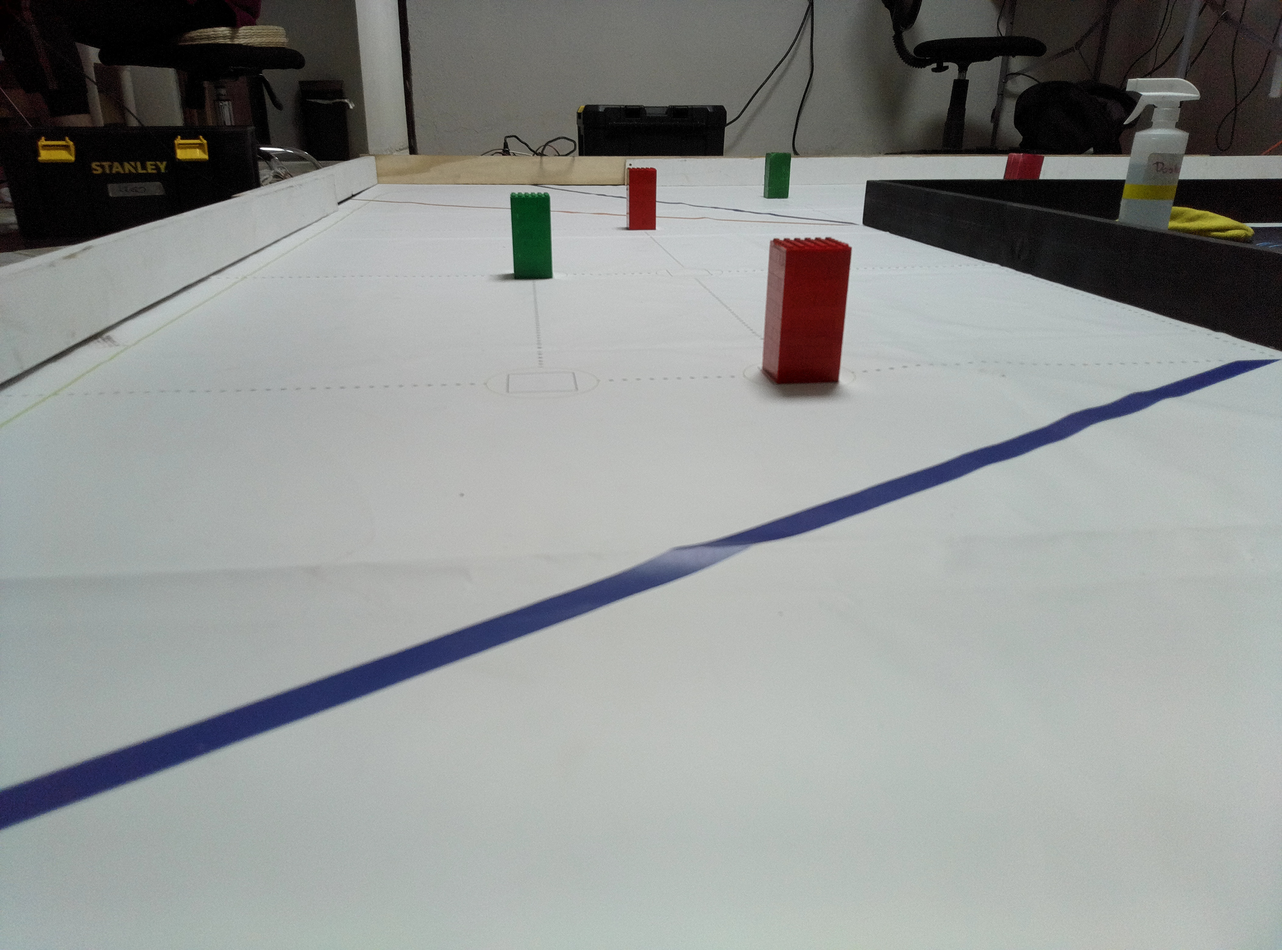greenbox: (509, 192, 554, 281), (763, 152, 792, 199)
redbox: (761, 236, 854, 386), (625, 167, 658, 231), (1002, 153, 1045, 180)
